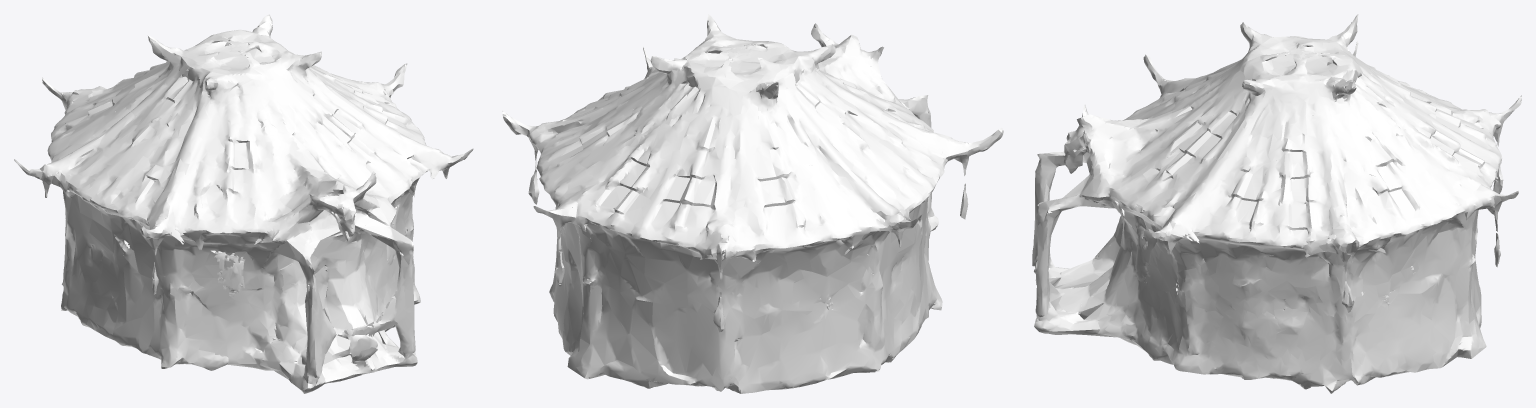
File: yurt_noble.glb
3 renders of one model, left to right at view 1: azimuth 30°, elevation 25°; view 2: azimuth 150°, elevation 25°; view 3: azimuth 270°, elevation 25°, orthographic. The views are drawn at different scales.
Visible parts, largest first — view 1: output_unwrapped; view 2: output_unwrapped; view 3: output_unwrapped.
Boxes of the visible parts, <box> form: output_unwrapped: <box>14,14,473,393</box>; output_unwrapped: <box>502,14,1003,393</box>; output_unwrapped: <box>1032,14,1521,393</box>.
Bounding box in the file's own units: 12.59 × 8 × 12.99.
Materials: 1 (1 with a texture image).
